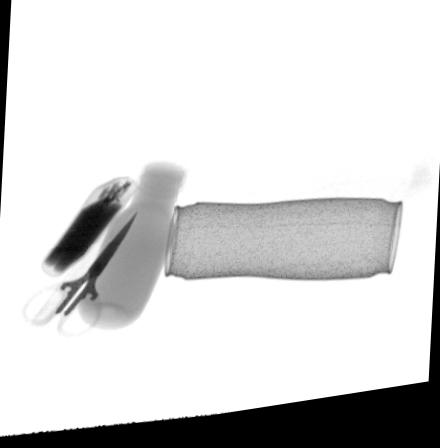Powerbank: (36, 177, 141, 281)
Scissors: (21, 214, 139, 339)
